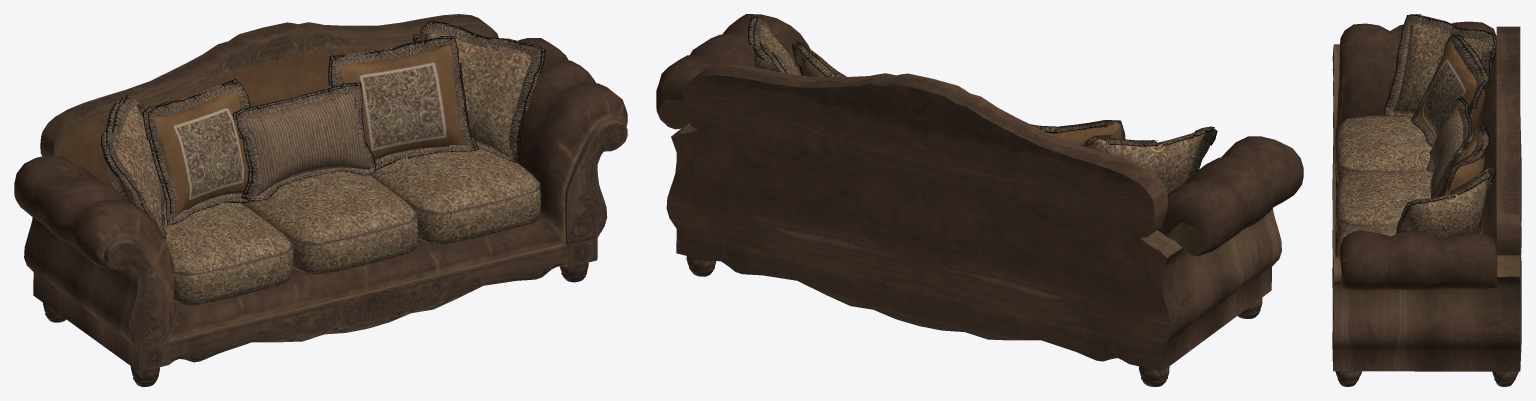
Rendered from sofa.fbx.
The picture shows the model from 3 angles, left to right: view 1: azimuth 30°, elevation 25°; view 2: azimuth 150°, elevation 25°; view 3: azimuth 270°, elevation 25°; orthographic projection. The views are drawn at different scales.
Parts seen in each view (by area): view 1: sofa_03_sofa_03_0, sofa_03_sofa_03_fringe_0; view 2: sofa_03_sofa_03_0, sofa_03_sofa_03_fringe_0; view 3: sofa_03_sofa_03_0, sofa_03_sofa_03_fringe_0.
Boxes of the visible parts, x1=… form: sofa_03_sofa_03_0: x1=14, y1=14, x2=627, y2=386; sofa_03_sofa_03_fringe_0: x1=101, y1=21, x2=545, y2=239; sofa_03_sofa_03_0: x1=656, y1=14, x2=1303, y2=386; sofa_03_sofa_03_fringe_0: x1=748, y1=16, x2=1217, y2=179; sofa_03_sofa_03_0: x1=1332, y1=21, x2=1521, y2=386; sofa_03_sofa_03_fringe_0: x1=1384, y1=14, x2=1496, y2=233.
Bounding box in the file's own units: 273 × 112 × 92.51.
